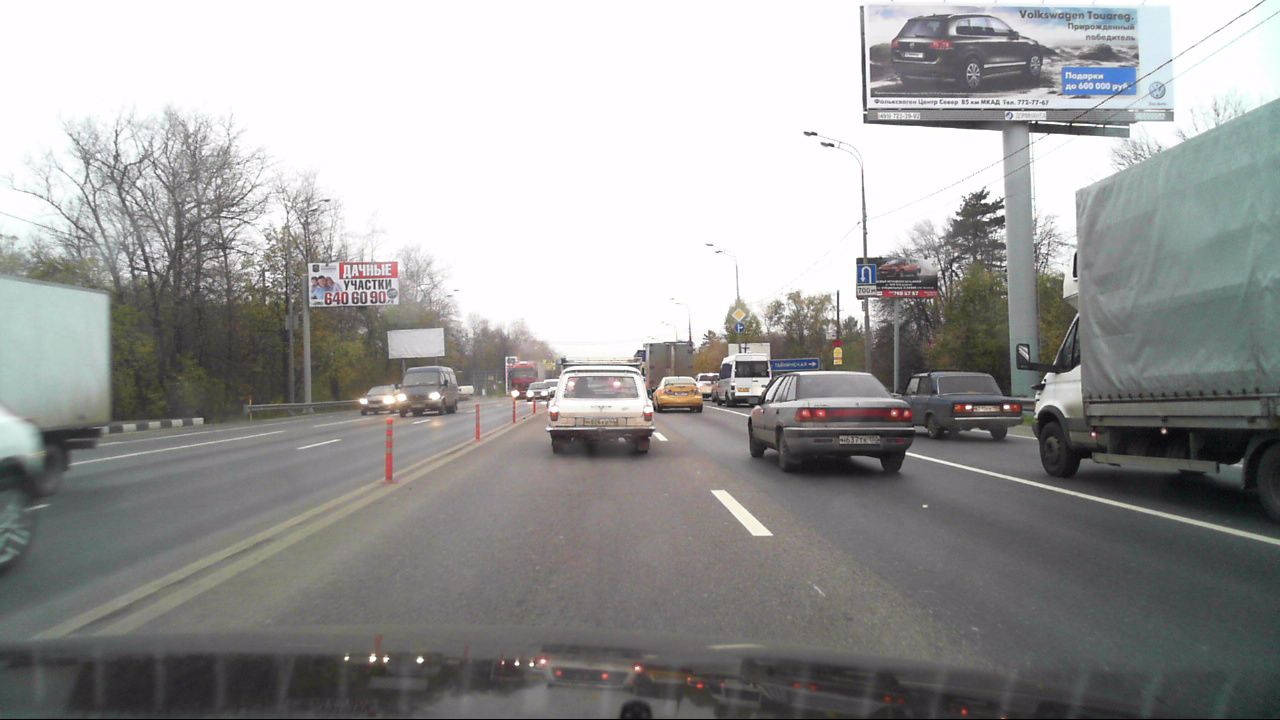U-turn: (856, 264, 876, 284)
